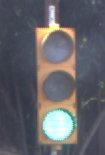Green: (32, 20, 84, 148)
